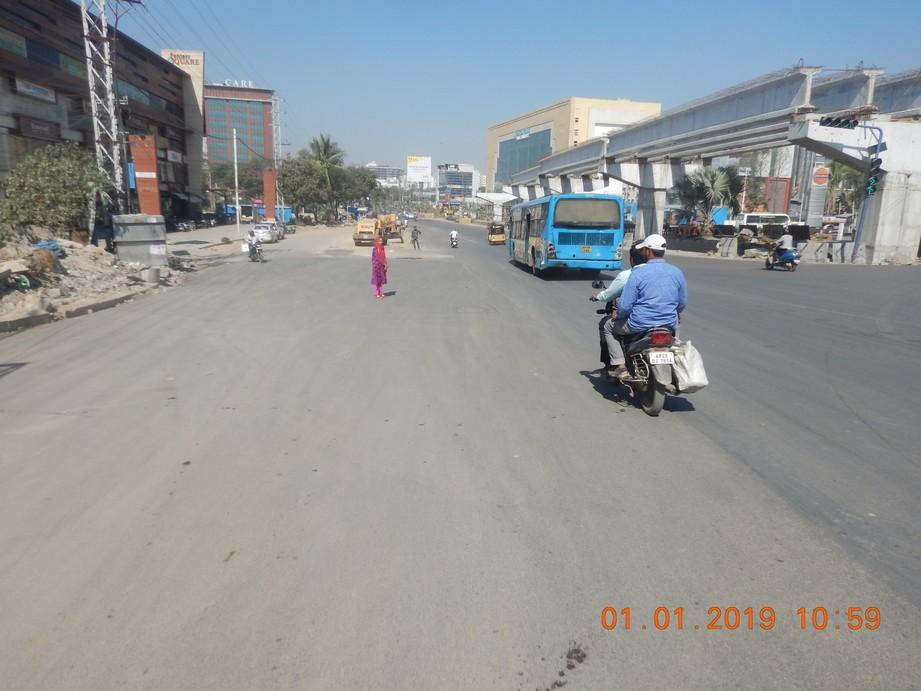plate: (649, 351, 674, 365)
